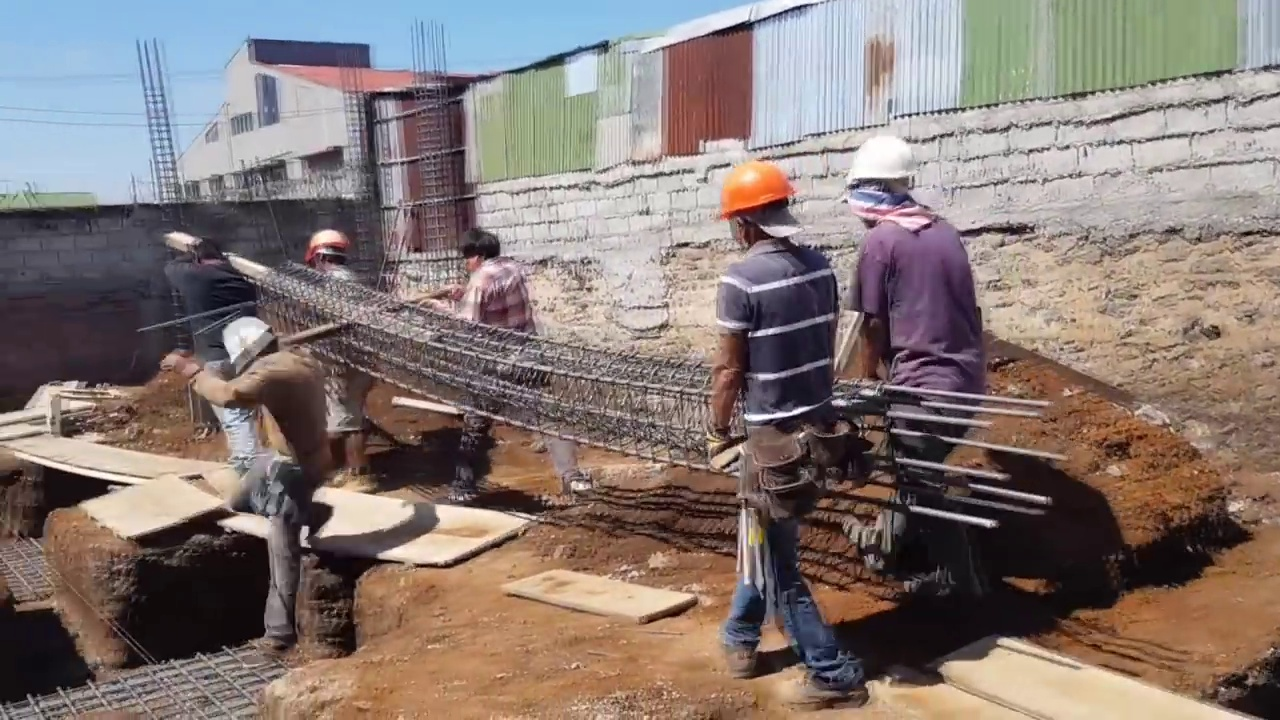helmet: (715, 160, 795, 226), (843, 128, 928, 190), (219, 317, 272, 367), (304, 231, 347, 265)
helmet-off: (454, 229, 499, 279), (184, 240, 217, 266)
helmet-on: (842, 128, 928, 228), (716, 155, 802, 254), (218, 312, 280, 379), (298, 230, 348, 276)
person: (712, 156, 851, 688), (839, 126, 989, 589), (158, 313, 328, 629), (445, 225, 596, 503), (300, 227, 384, 481), (164, 233, 254, 373)
